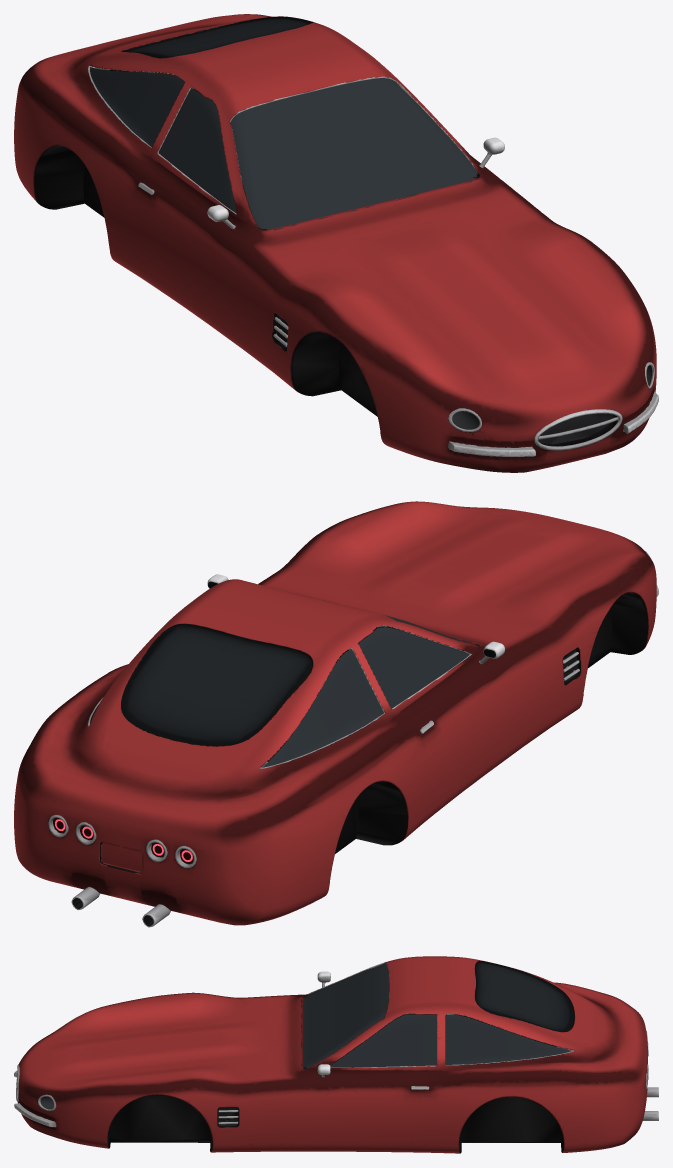
File: vesper.glb
The picture shows the model from 3 angles, top to bottom: view 1: azimuth 30°, elevation 25°; view 2: azimuth 150°, elevation 25°; view 3: azimuth 270°, elevation 25°; orthographic projection. The views are drawn at different scales.
Visible parts, largest first — view 1: paint, window, trim, chrome, glass, grille; view 2: paint, glass, window, trim, chrome; view 3: paint, window, trim, glass, chrome.
Boxes of the visible parts, x1,y1,x2,y2 form: paint: (14, 14, 656, 472); window: (90, 67, 477, 229); trim: (34, 69, 617, 472); chrome: (88, 65, 658, 456); glass: (121, 16, 312, 58); grille: (276, 315, 614, 444); paint: (14, 501, 656, 925); glass: (121, 582, 495, 746); window: (90, 593, 470, 767); trim: (100, 592, 648, 925); chrome: (48, 551, 658, 927); paint: (17, 956, 647, 1153); window: (303, 963, 571, 1068); trim: (107, 1041, 563, 1152); glass: (330, 961, 574, 1072); chrome: (14, 962, 658, 1127).
Size of what is drawn, in the model's own units: 1.71 by 1.03 by 4.59.
